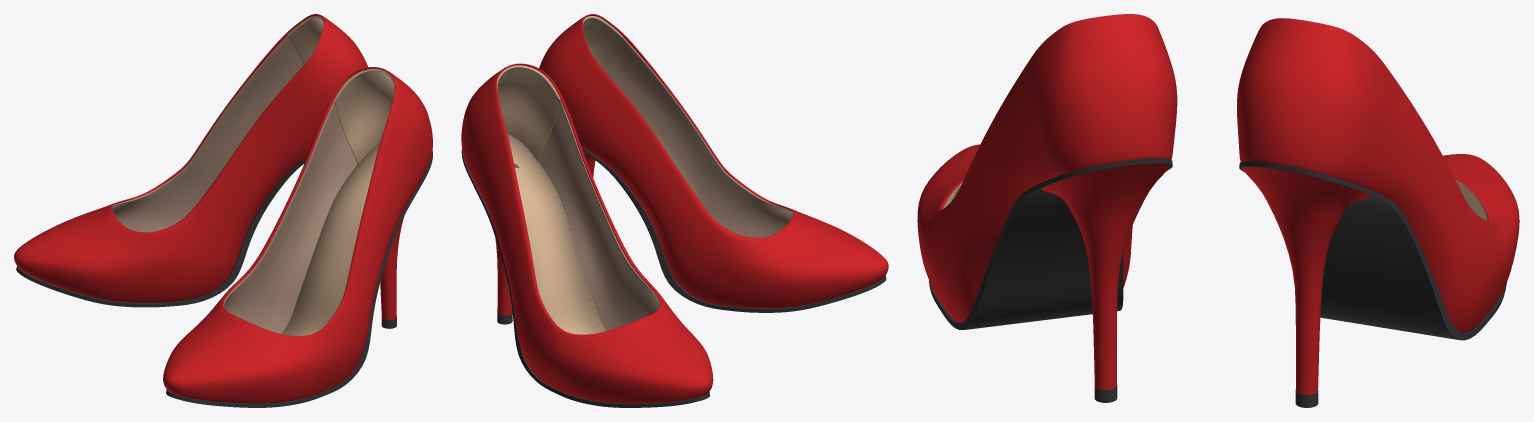
File: shoes.glb
3 renders of one model, left to right at view 1: azimuth 30°, elevation 25°; view 2: azimuth 150°, elevation 25°; view 3: azimuth 270°, elevation 25°, orthographic. The views are drawn at different scales.
Parts seen in each view (by area): view 1: lambert1; view 2: lambert1; view 3: lambert1.
Boxes of the visible parts, x1,y1,x2,y2 form: lambert1: [14, 14, 432, 407]; lambert1: [461, 14, 888, 407]; lambert1: [917, 14, 1519, 407].
Bounding box in the file's own units: 5.88 × 4.66 × 6.7.
1 material, 1 textured.
